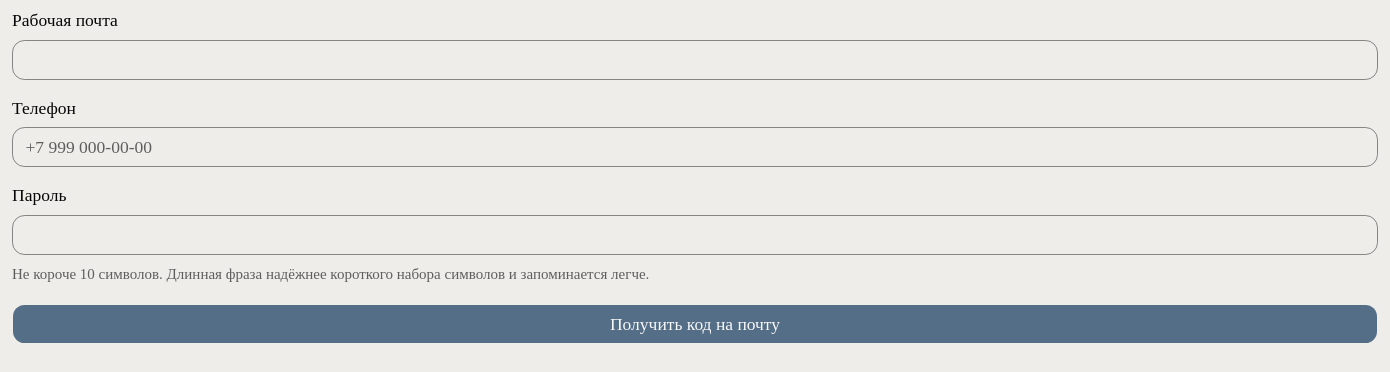
Scenario: регистрация по почте: экран кода › отказ при повторе показывается, таймер не сбрасывается
Type "a@firma.ru" into the field labelled "Рабочая почта" at coordinates (695, 60), box x1=12 y1=40 x2=1378 y2=80
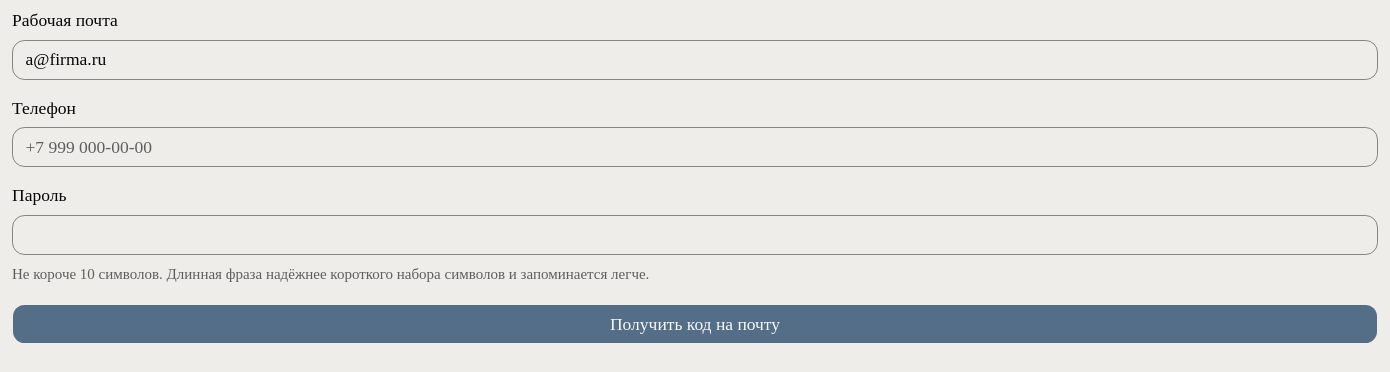
Type "+7 900 123-45-67" into the field labelled "Телефон" at coordinates (695, 147), box x1=12 y1=127 x2=1378 y2=167
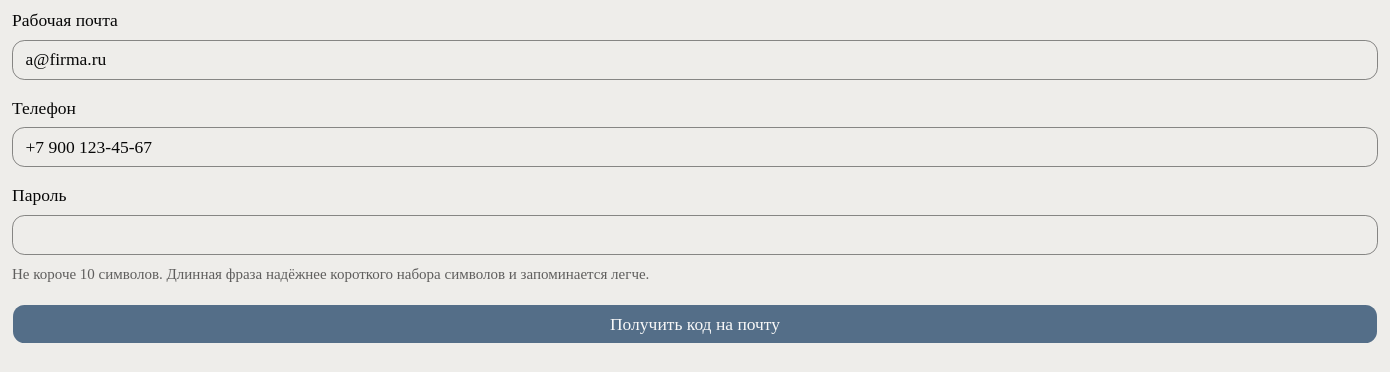
Type "длинная фраза 123" into the password field labelled "Пароль" at coordinates (695, 234), box x1=12 y1=214 x2=1378 y2=254
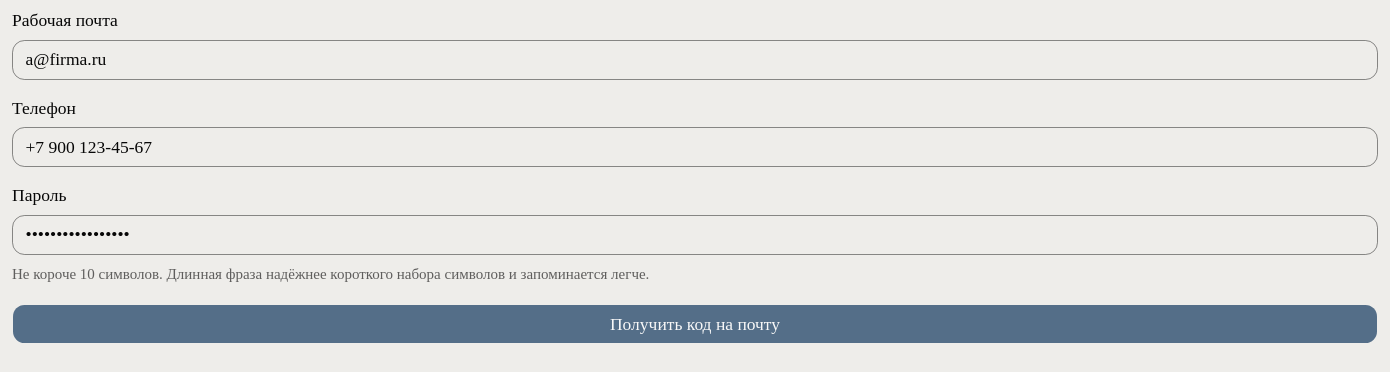
Submit the form labelled "Рабочая почта"
Wait 61000 ms
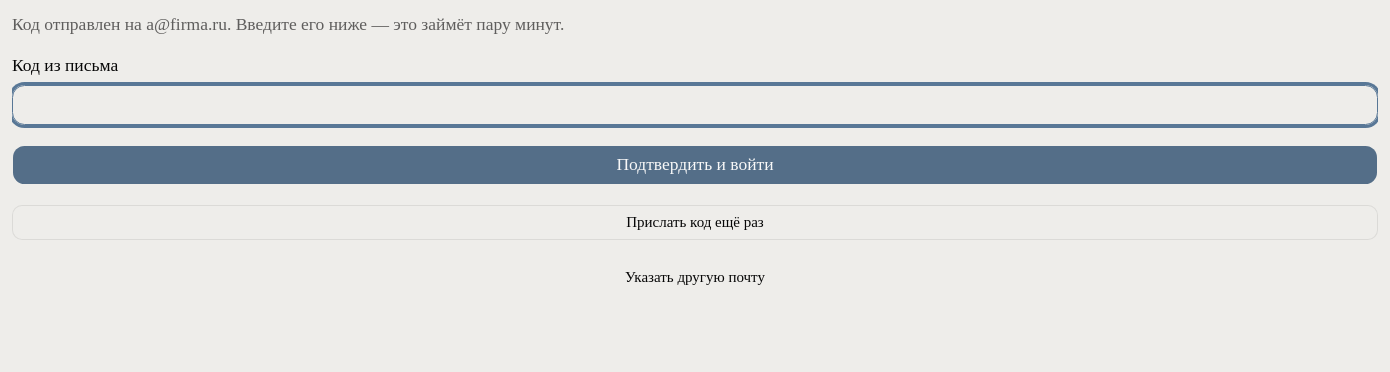
Expected: the field labelled "Код из письма" is shown, x1=12 y1=84 x2=1378 y2=124
Click the button "Прислать код ещё раз" at coordinates (695, 222), box x1=12 y1=205 x2=1378 y2=240
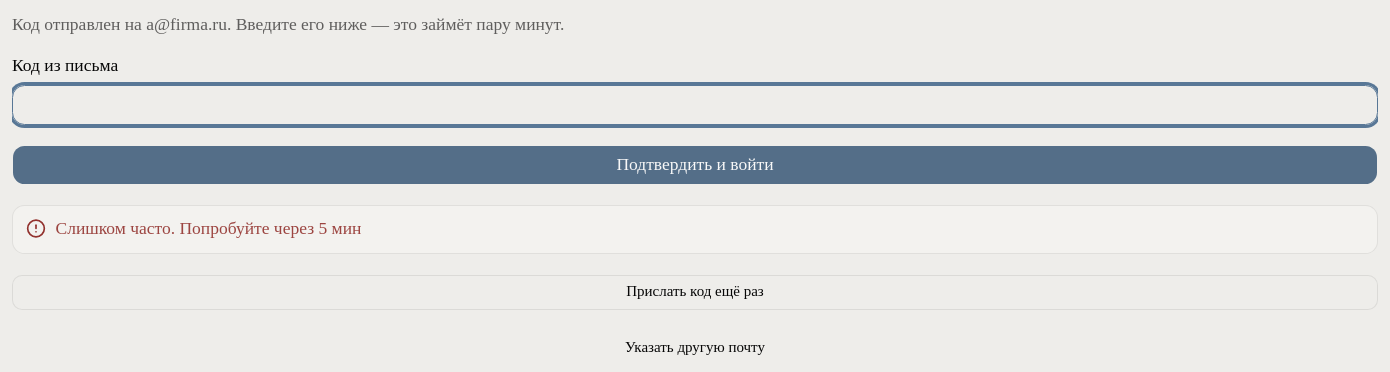
Expected: the button "Прислать код ещё раз" is enabled, x1=12 y1=274 x2=1378 y2=310
Expected: the text "Слишком часто. Попробуйте через 5 мин" is shown, x1=56 y1=218 x2=361 y2=238
